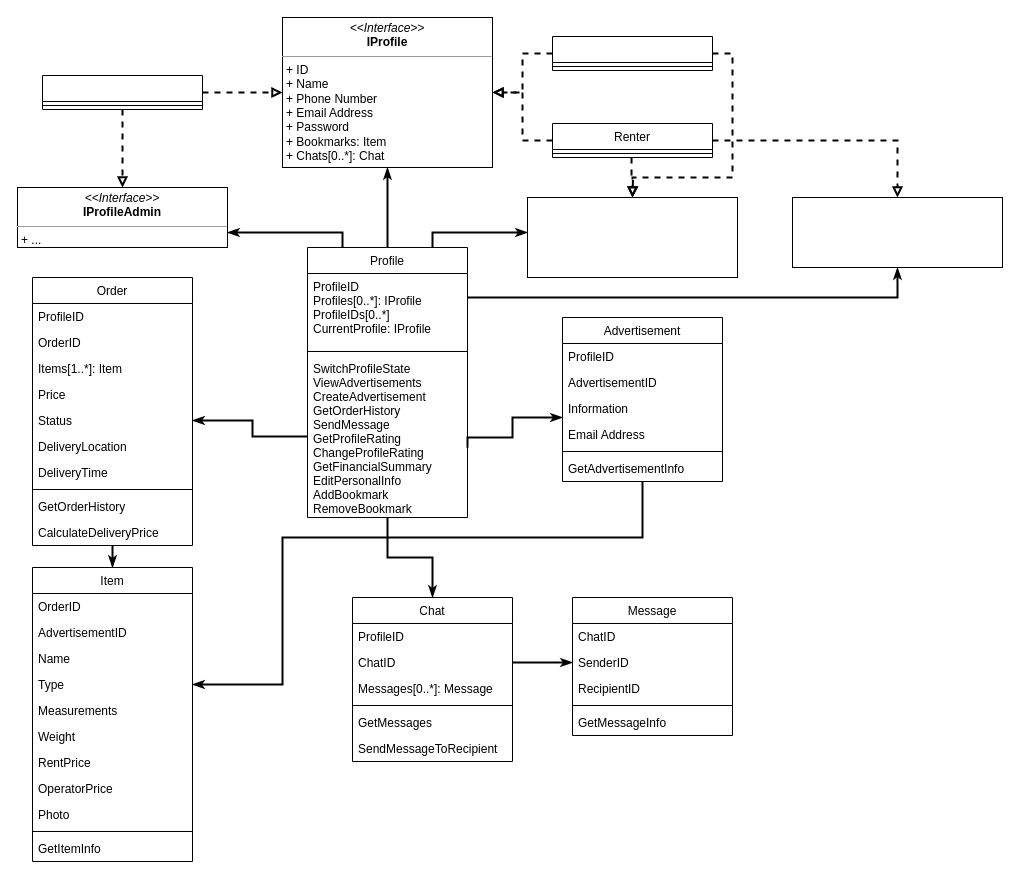
This 1020x882 diagram has some shape labels left out. Each missing label, with the box of its shape:
<<Interface>> IProfileAdvertisements + Advertisements[0..*]: Advertisement: (792, 196, 1002, 268)
<<Interface>> IProfileOrdersRating + Orders[0..*]: Order + Rating: (526, 196, 738, 278)
Administrator: (42, 74, 202, 110)
Rentee: (552, 36, 712, 70)
